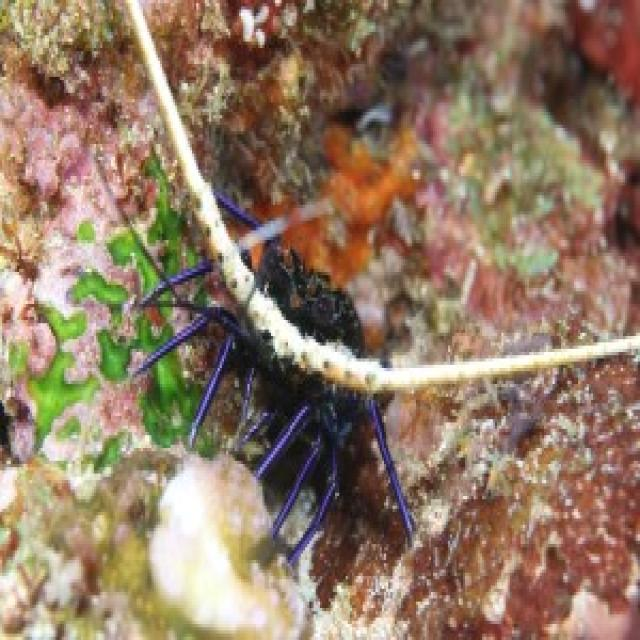lobsters: (138, 181, 500, 590)
